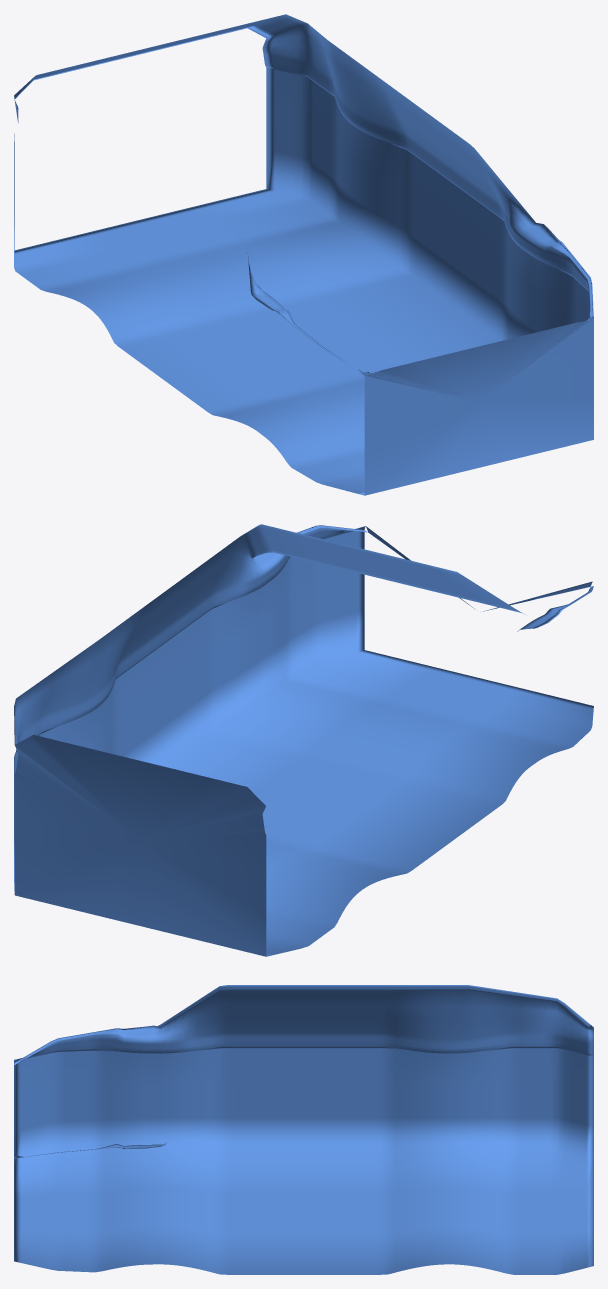
The model's file is octane_mesh_a_v01.glb.
3 views of the same model, one above another, from view 1: azimuth 30°, elevation 25°; view 2: azimuth 150°, elevation 25°; view 3: azimuth 270°, elevation 25° (orthographic). The views are drawn at different scales.
Visible parts, largest first — view 1: Octane_Body; view 2: Octane_Body; view 3: Octane_Body.
Boxes of the visible parts, x1,y1,x2,y2 form: Octane_Body: (14,14,593,495); Octane_Body: (14,524,593,956); Octane_Body: (14,985,593,1274).
Bounding box in the file's own units: 2.1 × 1.5 × 4.2.
